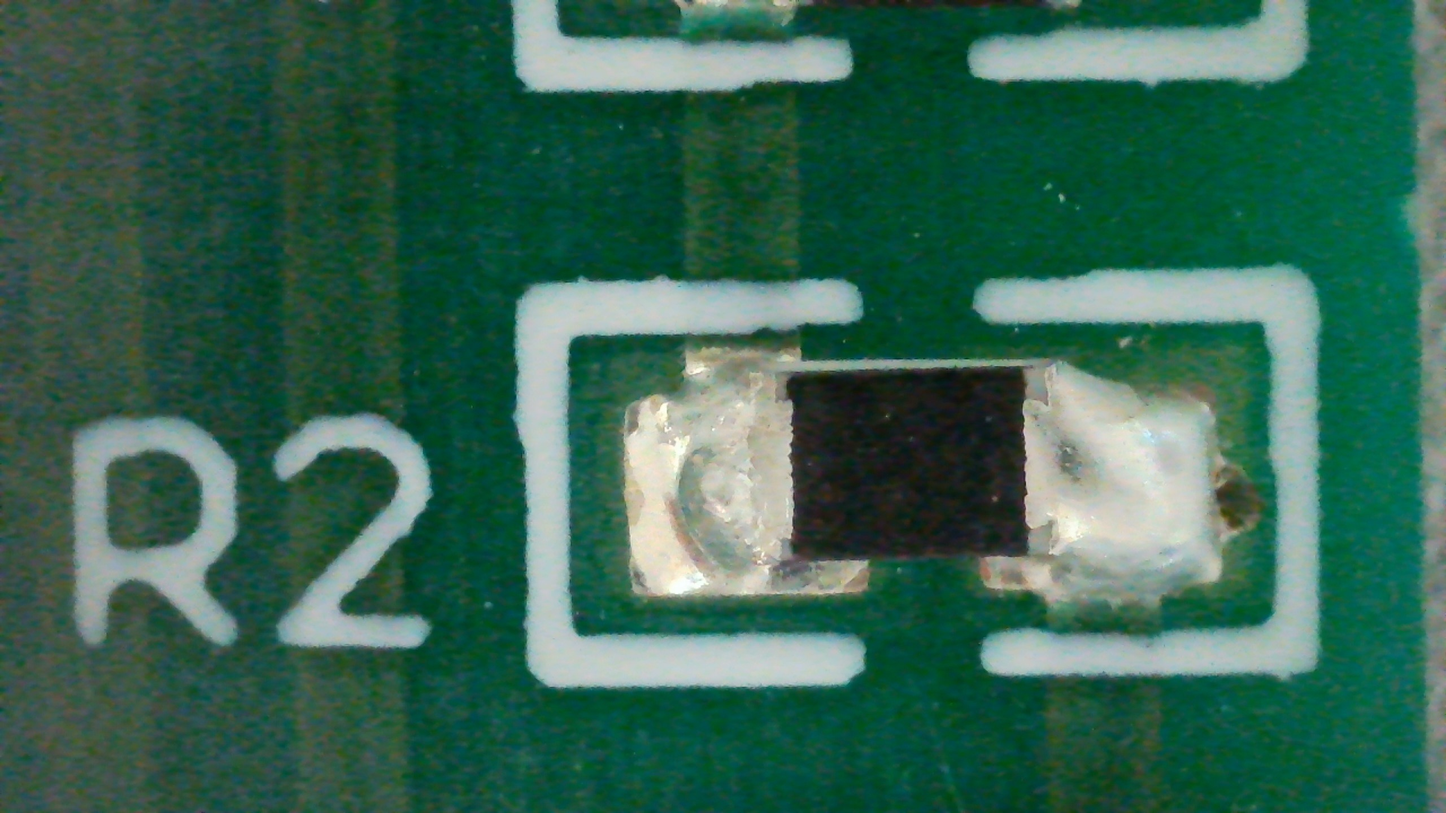NG: (626, 345, 1258, 606)
